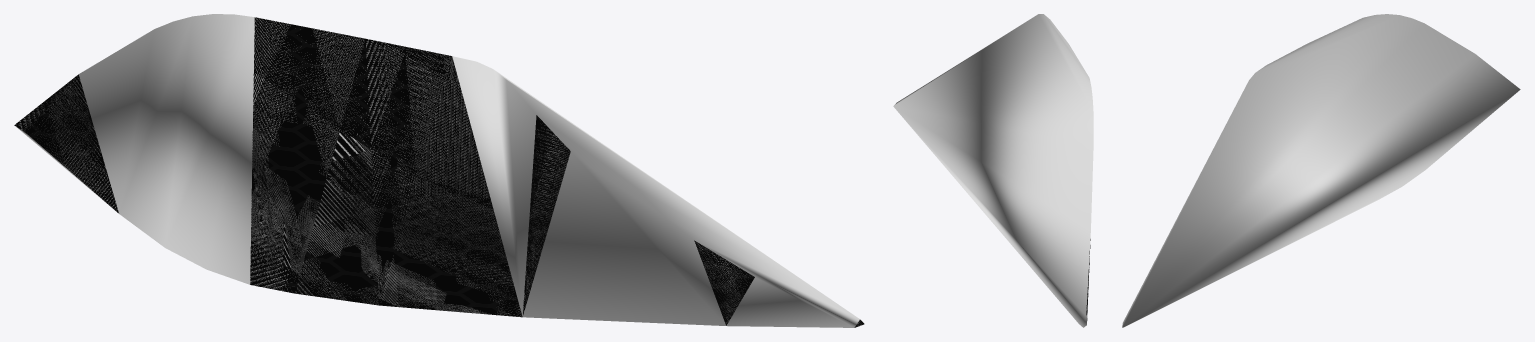
The picture shows the model from 3 angles, left to right: view 1: azimuth 30°, elevation 25°; view 2: azimuth 150°, elevation 25°; view 3: azimuth 270°, elevation 25°; orthographic projection. The views are drawn at different scales.
Parts seen in each view (by area): view 1: grille_eclipse_head_l_2_01_col, grille_eclipse_head_l_2_01; view 2: grille_eclipse_head_l_2_01_col; view 3: grille_eclipse_head_l_2_01_col.
Part boxes in pixels (left/top/right/bottom): grille_eclipse_head_l_2_01_col: left=15, top=14, right=863, bottom=327; grille_eclipse_head_l_2_01: left=14, top=17, right=864, bottom=327; grille_eclipse_head_l_2_01_col: left=893, top=14, right=1093, bottom=327; grille_eclipse_head_l_2_01_col: left=1122, top=14, right=1520, bottom=327.
Size of the model in its own units: 0.3689 by 0.1828 by 0.364.
Materials: 1 (1 with a texture image).
